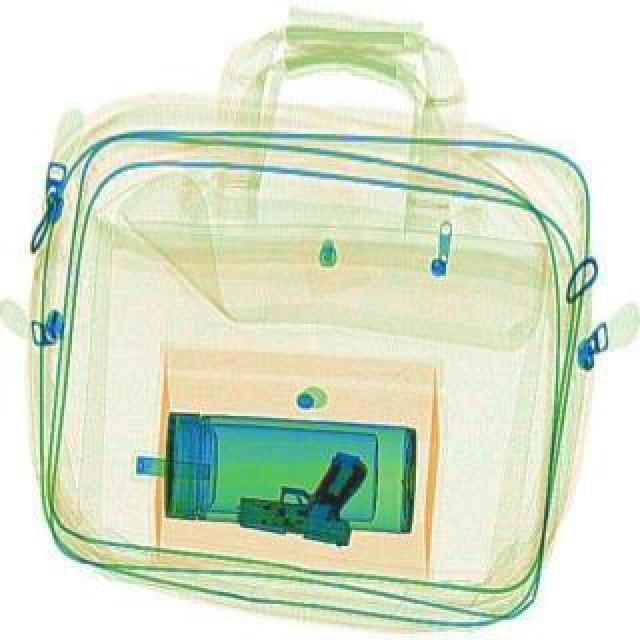gun: (232, 440, 370, 548)
